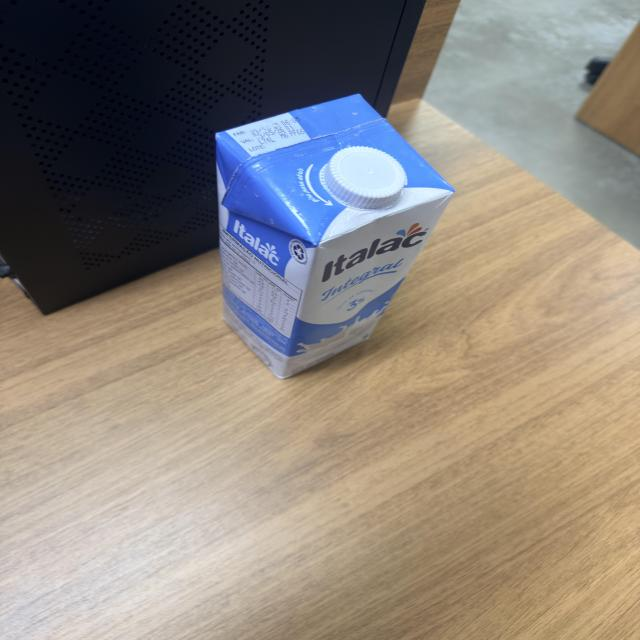Caixa de Leite: (213, 93, 457, 381)
